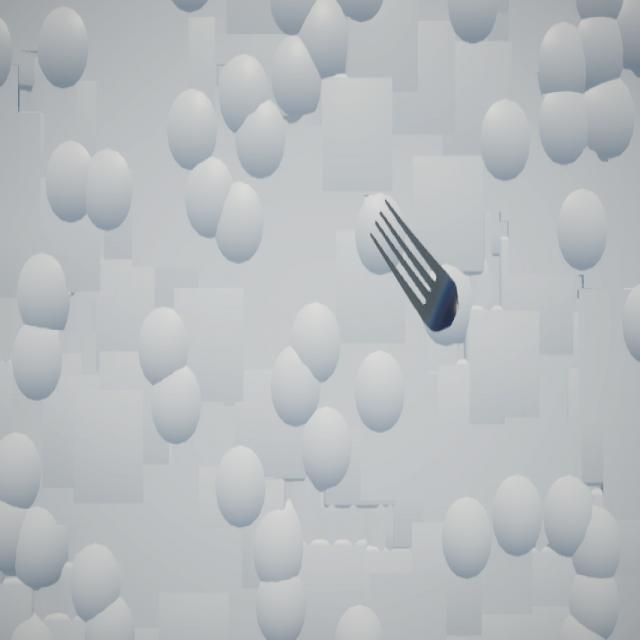top_folk: (371, 200, 460, 333)
